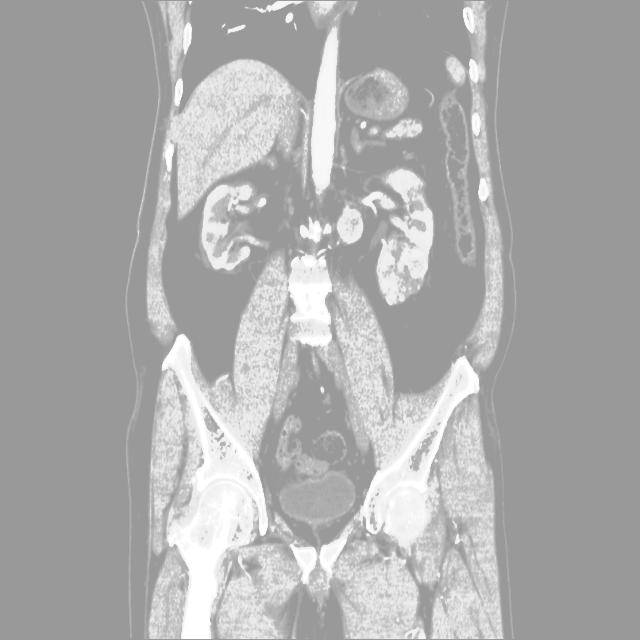TUMOR: (146, 116, 475, 331)
